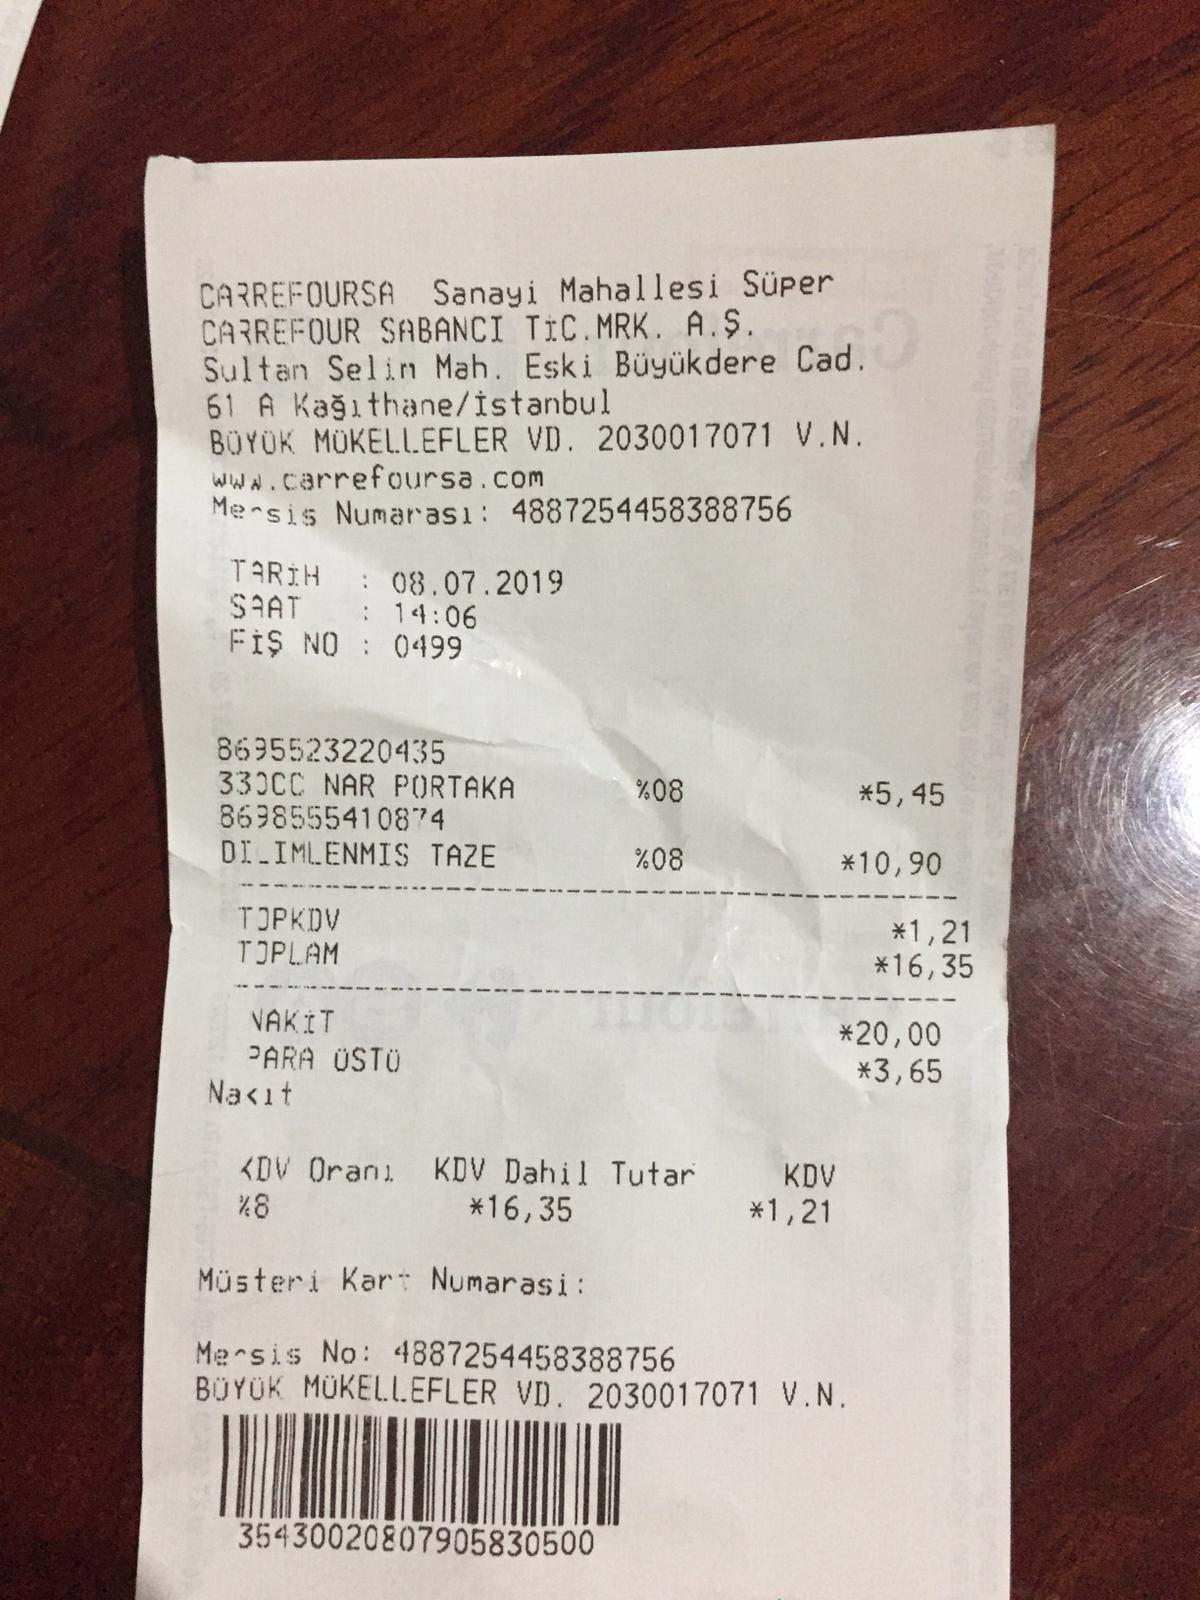total: (233, 933, 980, 984)
